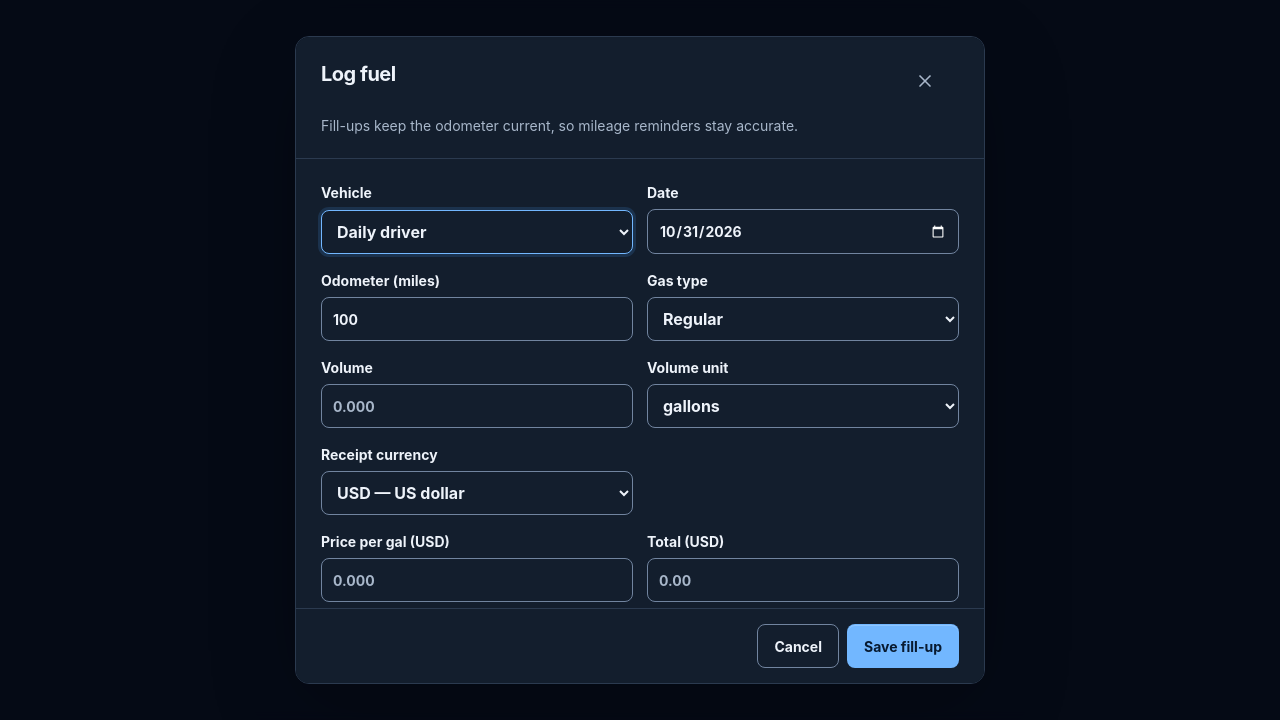
Test: calculates the price from volume and total, and the volume from price and total
The image size is (1280, 720).
Step 1. Type "5" into the number field labelled "Volume" → [477, 406], box left=321, top=384, right=633, bottom=428
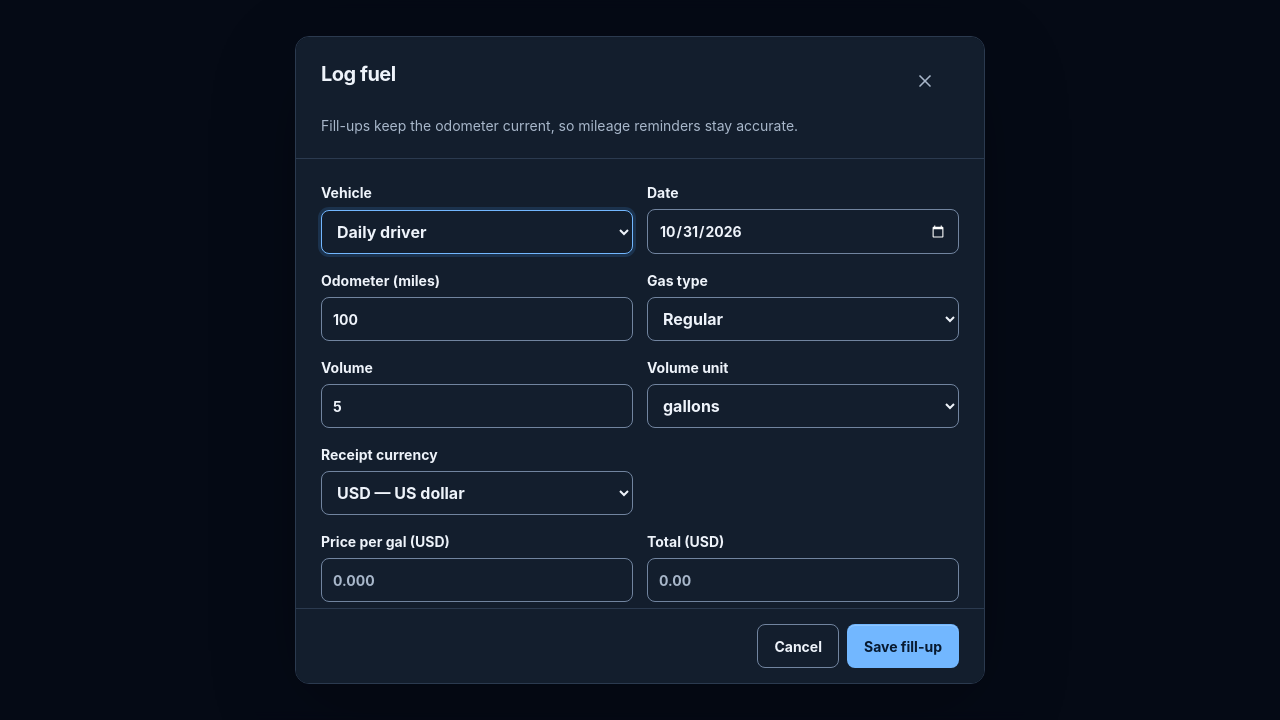
Step 2. Type "17.50" into the number field labelled "Total (USD)" → [803, 580], box left=647, top=558, right=959, bottom=602
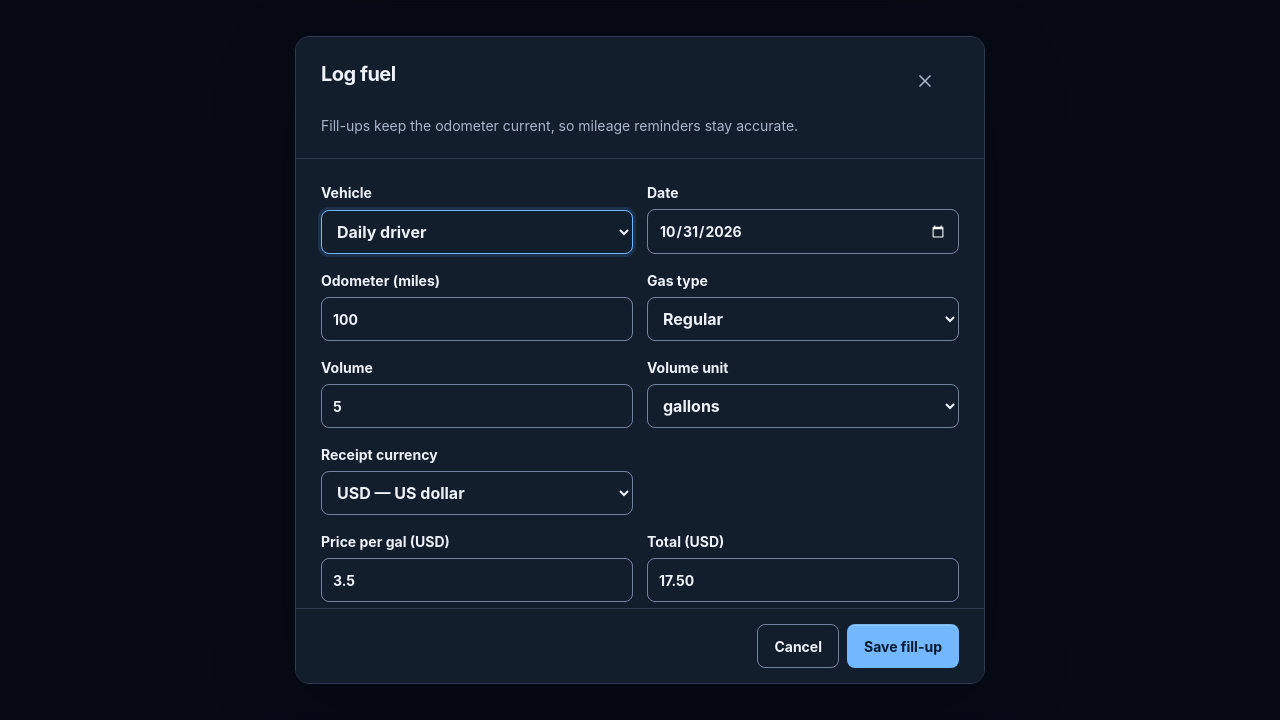
Check: the number field labelled "Price per gal (USD)" holds "3.5"
Step 3. Replace the text in the number field labelled "Price per gal (USD)" with "3.6" → [477, 580], box left=321, top=558, right=633, bottom=602
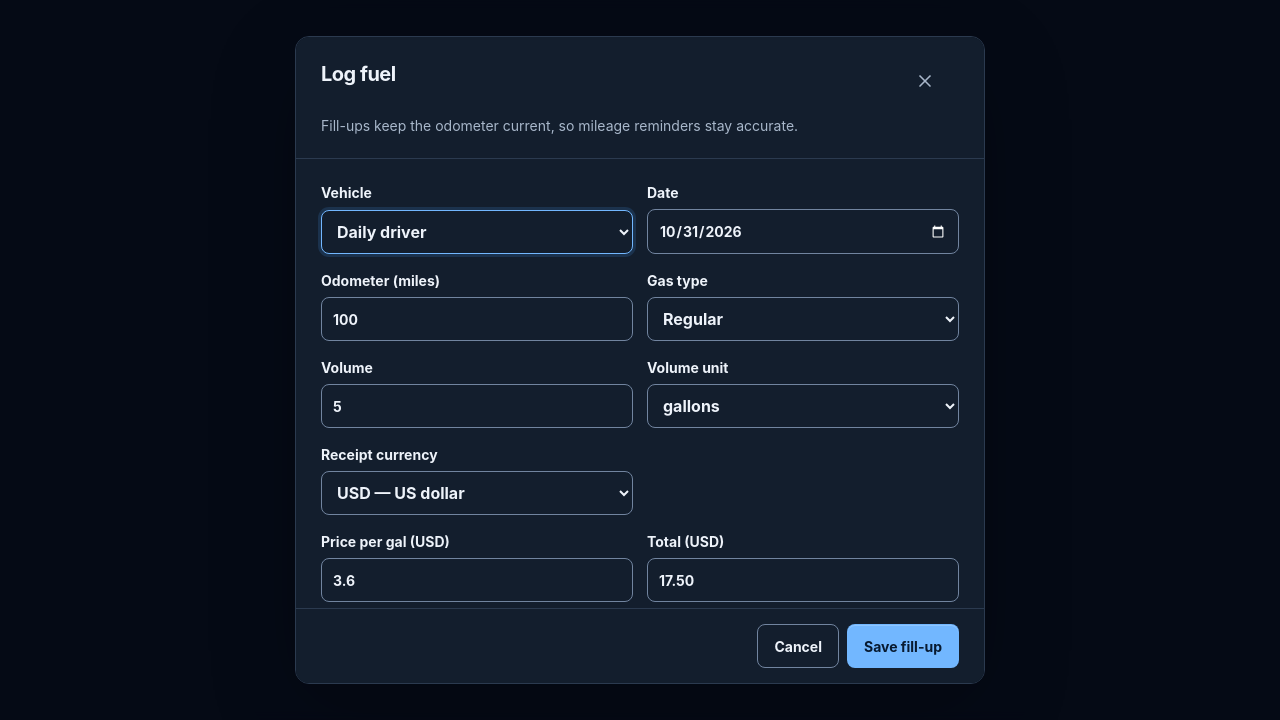
Step 4. Replace the text in the number field labelled "Total (USD)" with "36" → [803, 580], box left=647, top=558, right=959, bottom=602
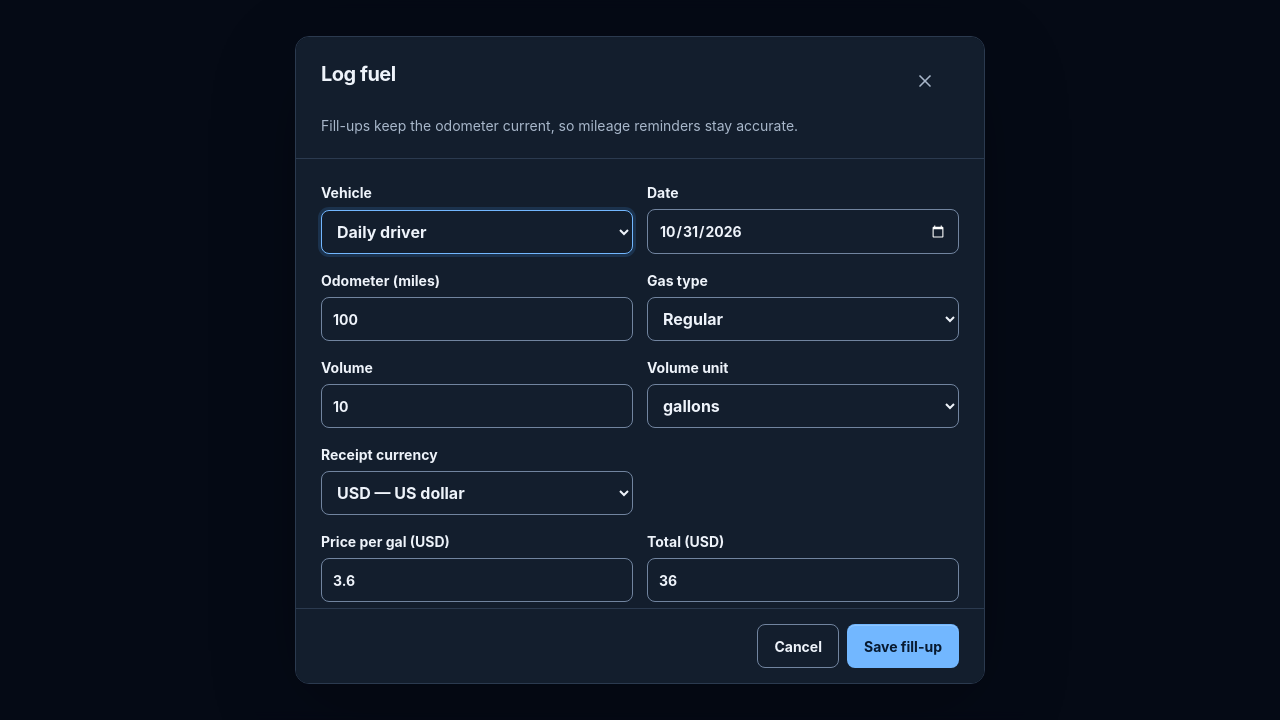
Check: the number field labelled "Volume" holds "10", box left=321, top=384, right=633, bottom=428
